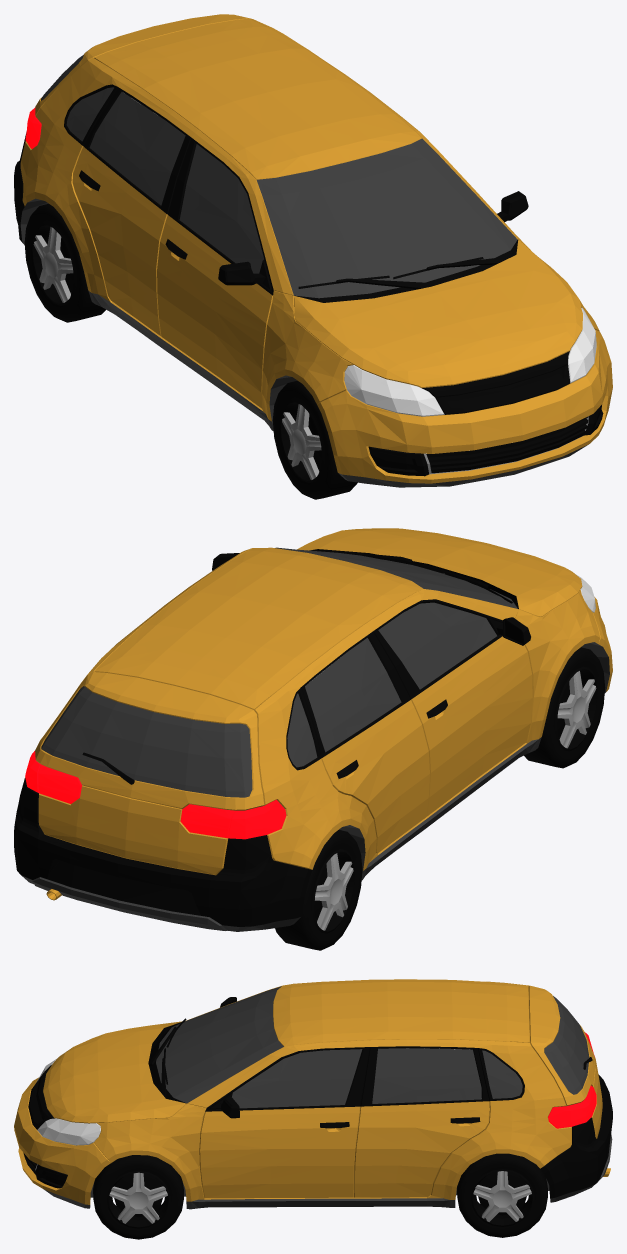
File: AutoMostaza.fbx
3 views of the same model, one above another, from view 1: azimuth 30°, elevation 25°; view 2: azimuth 150°, elevation 25°; view 3: azimuth 270°, elevation 25° (orthographic). The views are drawn at different scales.
Parts seen in each view (by area): view 1: Hatchback Body.011, Wheel_B002.011, Wheel_B003.011; view 2: Hatchback Body.011, Wheel_B003.011, Wheel_B002.011; view 3: Hatchback Body.011, Wheel_B.011, Wheel_B001.011.
Part boxes in pixels (left/top/right/bottom): Hatchback Body.011: left=14, top=14, right=612, bottom=487; Wheel_B002.011: left=272, top=380, right=357, bottom=499; Wheel_B003.011: left=24, top=203, right=105, bottom=322; Hatchback Body.011: left=14, top=528, right=612, bottom=931; Wheel_B003.011: left=275, top=830, right=362, bottom=950; Wheel_B002.011: left=524, top=647, right=605, bottom=768; Hatchback Body.011: left=14, top=979, right=612, bottom=1209; Wheel_B.011: left=93, top=1155, right=183, bottom=1239; Wheel_B001.011: left=457, top=1153, right=547, bottom=1237.
Bounding box in the file's own units: 196 × 152 × 445.
